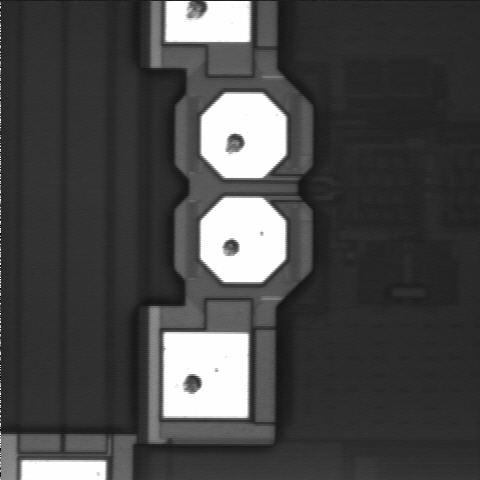pad: (164, 332, 248, 418), (201, 94, 286, 178), (201, 198, 285, 282)
